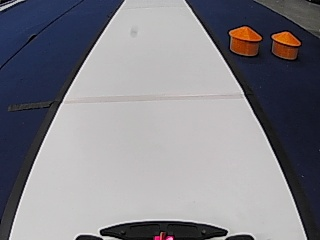granary: (227, 25, 263, 57), (269, 29, 302, 60)
